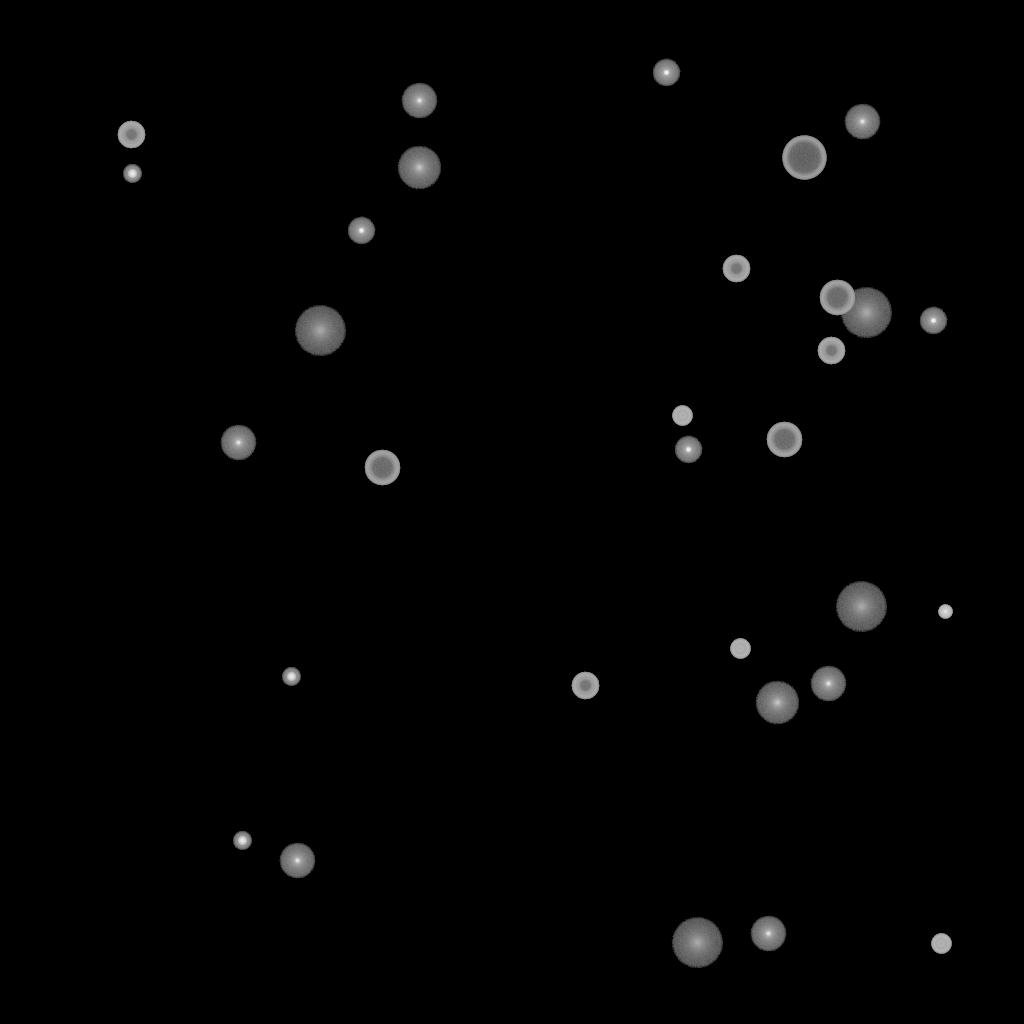depth:-10: (347, 217, 375, 245), (919, 307, 947, 335), (674, 436, 702, 464), (652, 59, 680, 87)
depth:-20: (233, 832, 251, 850), (282, 668, 300, 686), (123, 165, 141, 183)
depth:-30: (938, 605, 952, 619)
depth:-40: (730, 639, 750, 659), (672, 406, 692, 426), (931, 934, 951, 954)
depth:-50: (571, 672, 599, 700), (722, 255, 750, 283), (117, 121, 145, 149), (817, 337, 845, 365)
depth:-60: (819, 280, 855, 316), (766, 422, 802, 458), (364, 450, 400, 486)
depth:-70: (782, 136, 826, 180)
depth:0: (750, 916, 786, 952), (844, 104, 880, 140), (279, 843, 315, 879), (810, 666, 846, 702), (220, 425, 256, 461), (401, 83, 437, 119)
depth:10: (397, 146, 441, 190), (755, 681, 799, 725)
depth:20: (835, 582, 887, 632), (840, 288, 892, 338), (294, 306, 346, 356), (671, 918, 723, 968)
